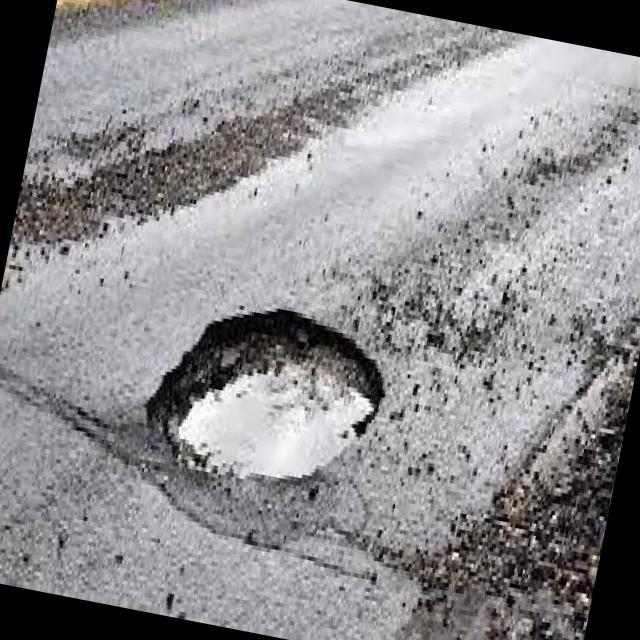pothole: (126, 278, 412, 515)
